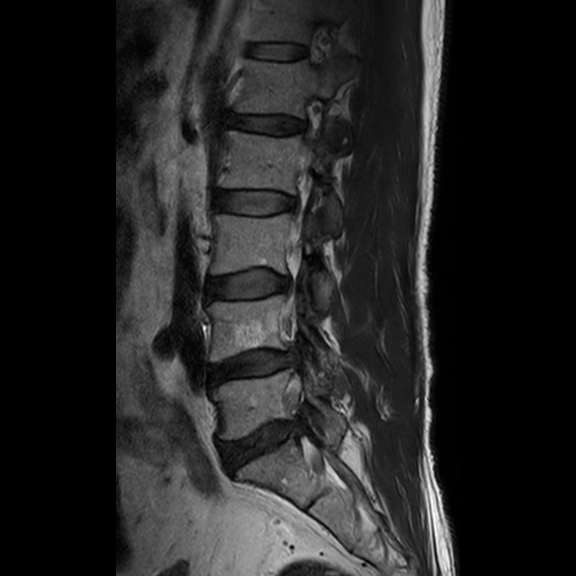RFS0: (291, 88, 330, 151)
